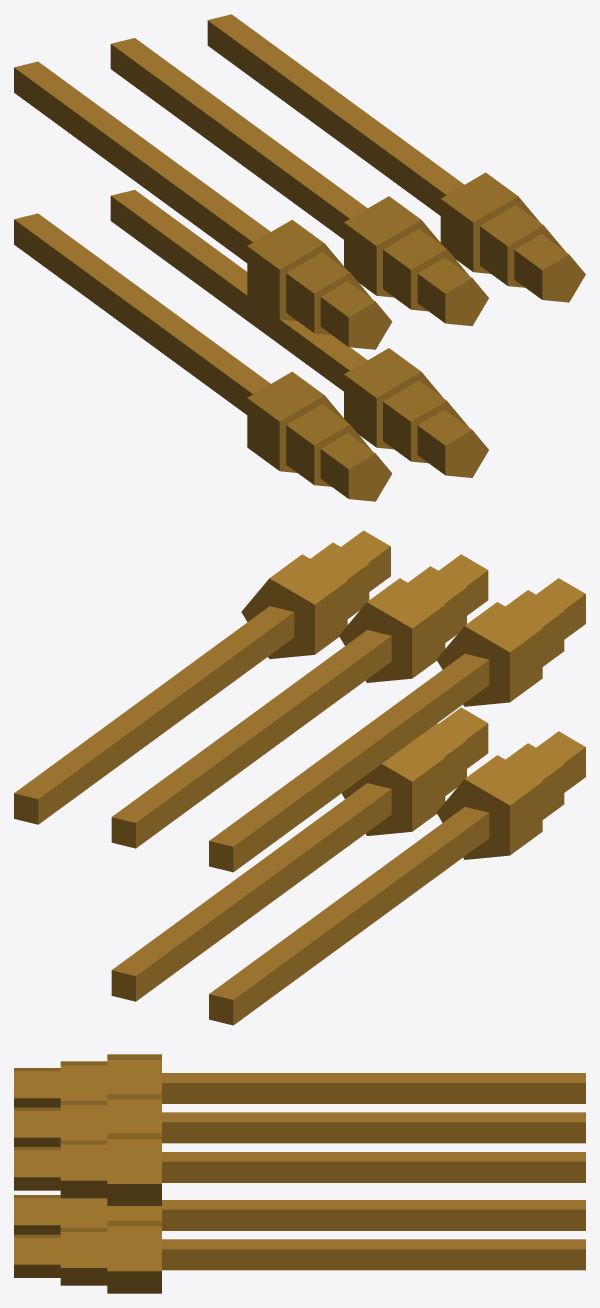
The model's file is SM_RuralWheat.obj.
The picture shows the model from 3 angles, top to bottom: view 1: azimuth 30°, elevation 25°; view 2: azimuth 150°, elevation 25°; view 3: azimuth 270°, elevation 25°; orthographic projection. The views are drawn at different scales.
Parts seen in each view (by area): view 1: SM_RuralWheat; view 2: SM_RuralWheat; view 3: SM_RuralWheat.
Part boxes in pixels (x1,y1,x2,y2): SM_RuralWheat: [14, 14, 585, 501]; SM_RuralWheat: [14, 530, 585, 1025]; SM_RuralWheat: [14, 1054, 585, 1293].
Bounding box in the file's own units: 33.05 × 27.51 × 73.5.
